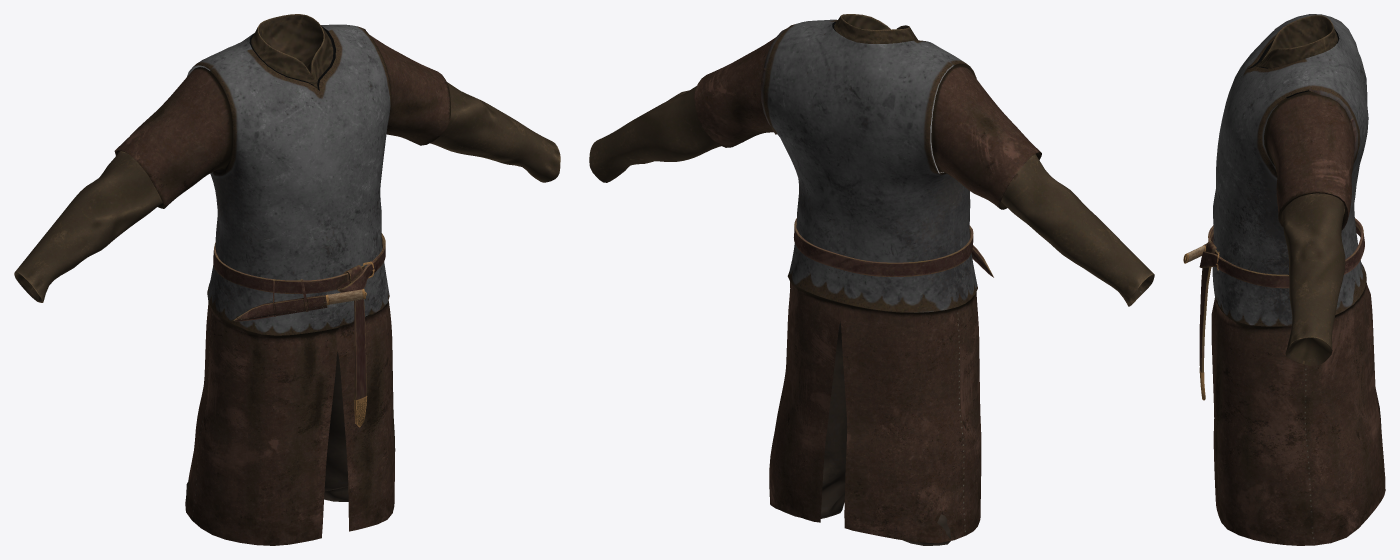
Rendered from cts_rohan_armor22.fbx.
The picture shows the model from 3 angles, left to right: view 1: azimuth 30°, elevation 25°; view 2: azimuth 150°, elevation 25°; view 3: azimuth 270°, elevation 25°; orthographic projection. The views are drawn at different scales.
Visible parts, largest first — view 1: cts_rohan_armor22; view 2: cts_rohan_armor22; view 3: cts_rohan_armor22.
Boxes of the visible parts, x1,y1,x2,y2 form: cts_rohan_armor22: (14, 14, 560, 545); cts_rohan_armor22: (589, 14, 1154, 545); cts_rohan_armor22: (1183, 14, 1385, 545).
Bounding box in the file's own units: 1.38 × 0.4543 × 1.18.
1 material, 1 textured.
